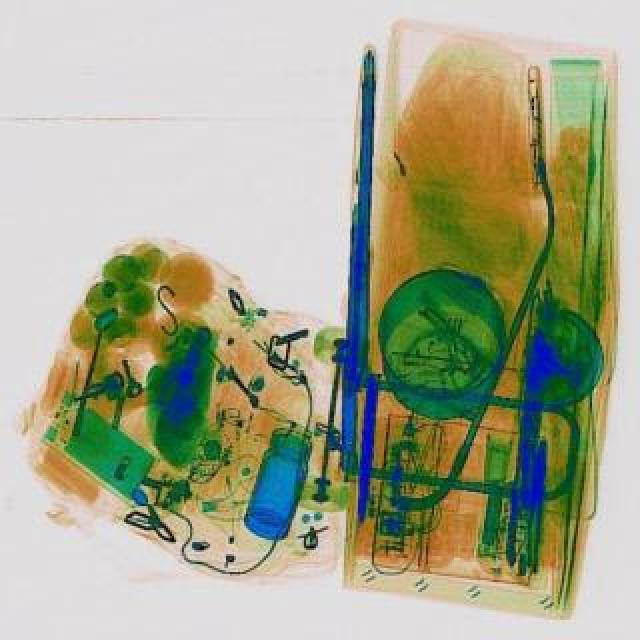wrench: (524, 440, 550, 572)
